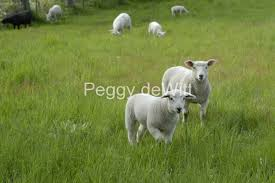sheep: (121, 91, 193, 146), (164, 60, 213, 124), (110, 12, 133, 40), (46, 4, 63, 27), (148, 20, 167, 39), (169, 5, 189, 16)
